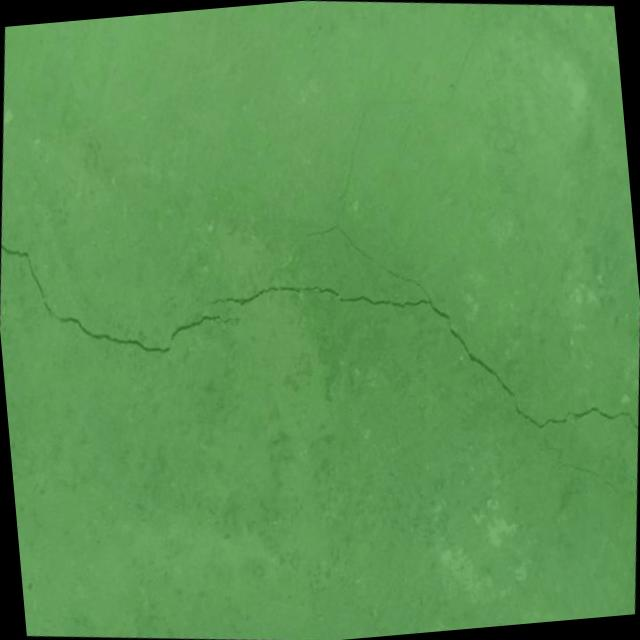crack: (177, 72, 640, 467), (0, 220, 251, 373), (444, 0, 494, 95), (554, 456, 639, 505)
